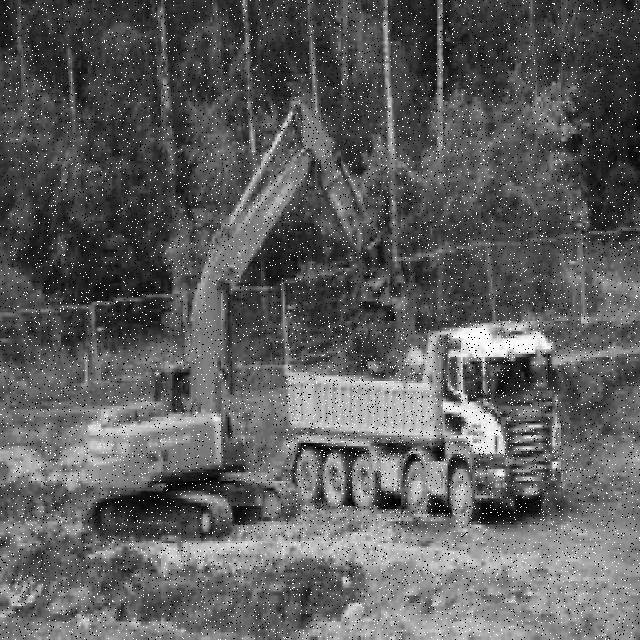Box Truck: (286, 322, 563, 525)
Construction Equipment: (83, 101, 417, 542)
